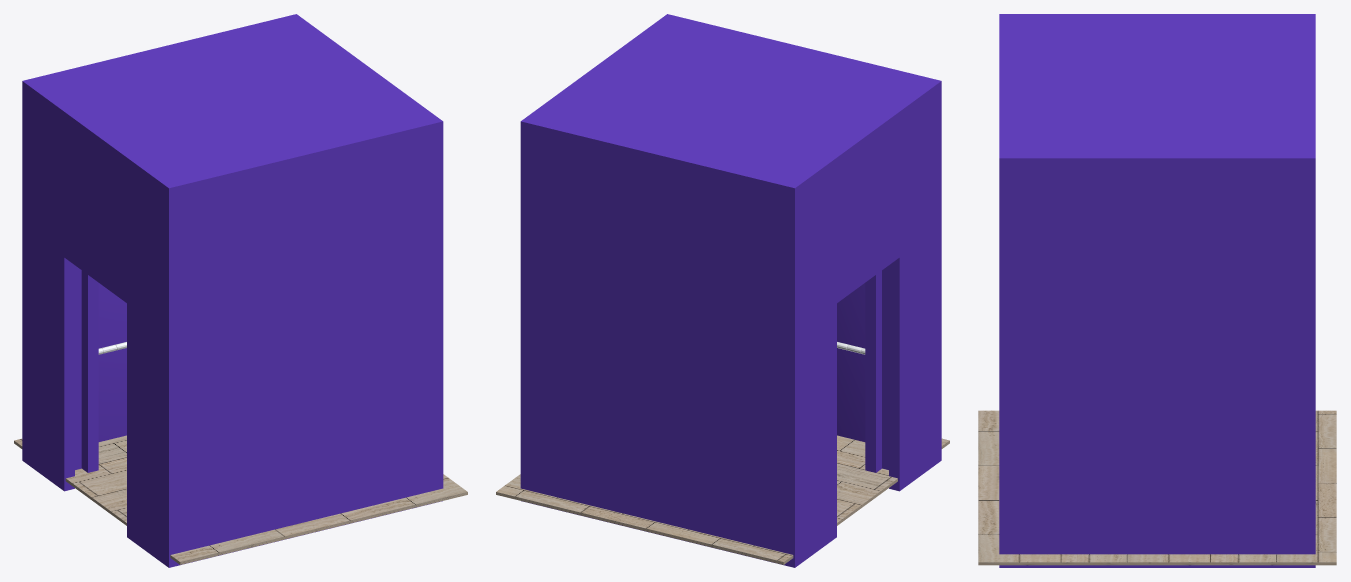
Rendered from elevator.glb.
3 renders of one model, left to right at view 1: azimuth 30°, elevation 25°; view 2: azimuth 150°, elevation 25°; view 3: azimuth 270°, elevation 25°, orthographic. The views are drawn at different scales.
Visible parts, largest first — view 1: elevator; view 2: elevator; view 3: elevator.
Part boxes in pixels (x1,y1,x2,y2): elevator: (14,14,467,567); elevator: (496,14,949,567); elevator: (978,14,1336,567).
Bounding box in the file's own units: 4.43 × 5.56 × 4.41.
Materials: 9 (3 with a texture image).
